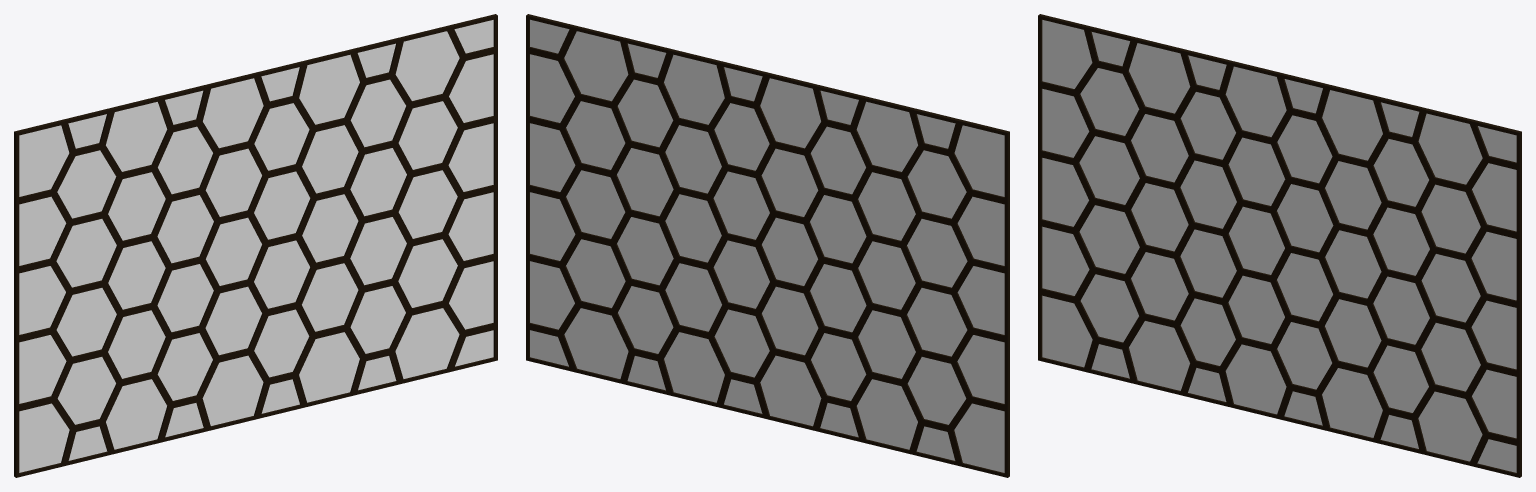
File: WallPattern3.fbx
The picture shows the model from 3 angles, left to right: view 1: azimuth 30°, elevation 25°; view 2: azimuth 150°, elevation 25°; view 3: azimuth 330°, elevation 25°; orthographic projection.
Parts seen in each view (by area): view 1: Glass001, WallPattern3, Marcos; view 2: Glass001, WallPattern3, Marcos; view 3: Glass001, WallPattern3, Marcos.
Part boxes in pixels (<box>): Glass001: <box>19,20,493,472</box>; WallPattern3: <box>14,14,497,477</box>; Marcos: <box>14,16,497,477</box>; Glass001: <box>530,19,1004,472</box>; WallPattern3: <box>526,14,1009,477</box>; Marcos: <box>526,16,1009,477</box>; Glass001: <box>1042,20,1516,472</box>; WallPattern3: <box>1038,14,1521,477</box>; Marcos: <box>1038,16,1521,477</box>.
Bounding box in the file's own units: 9.5 × 6.5 × 0.071.
